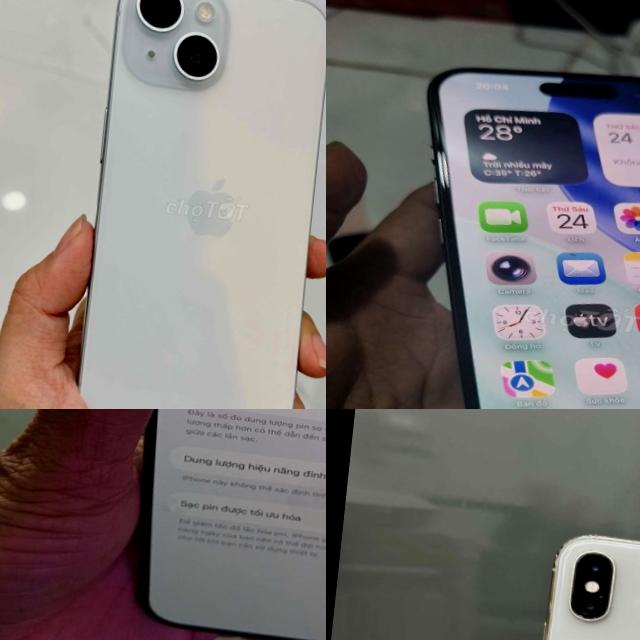gen_14: (86, 409, 326, 640)
gen_15: (57, 0, 326, 409)
gen_16: (428, 67, 640, 409)
scratch: (572, 608, 606, 628)
